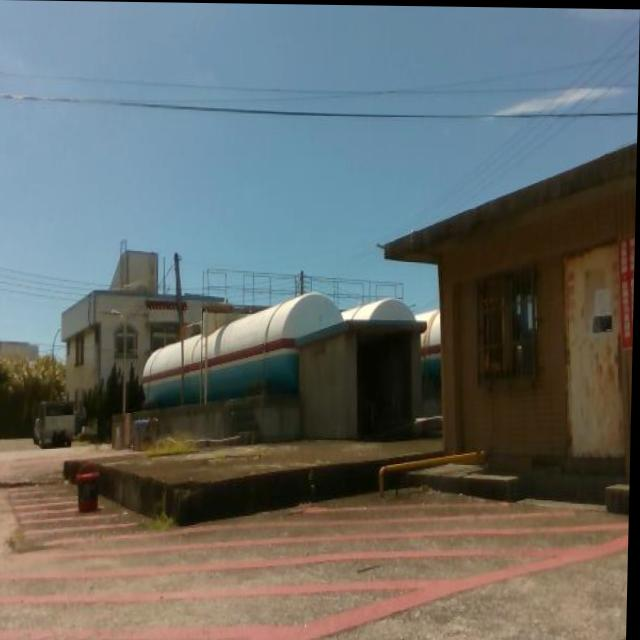pollute: (75, 458, 104, 515)
